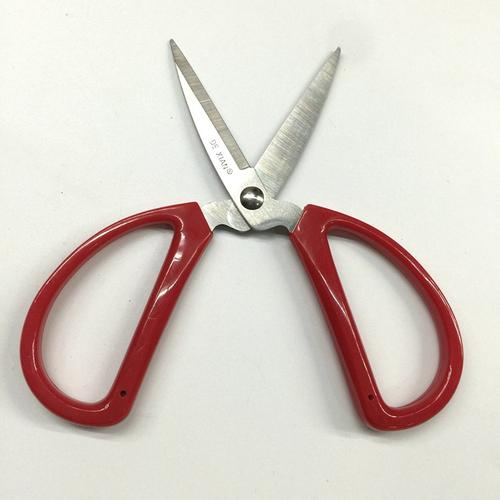scissor: (19, 37, 465, 435)
